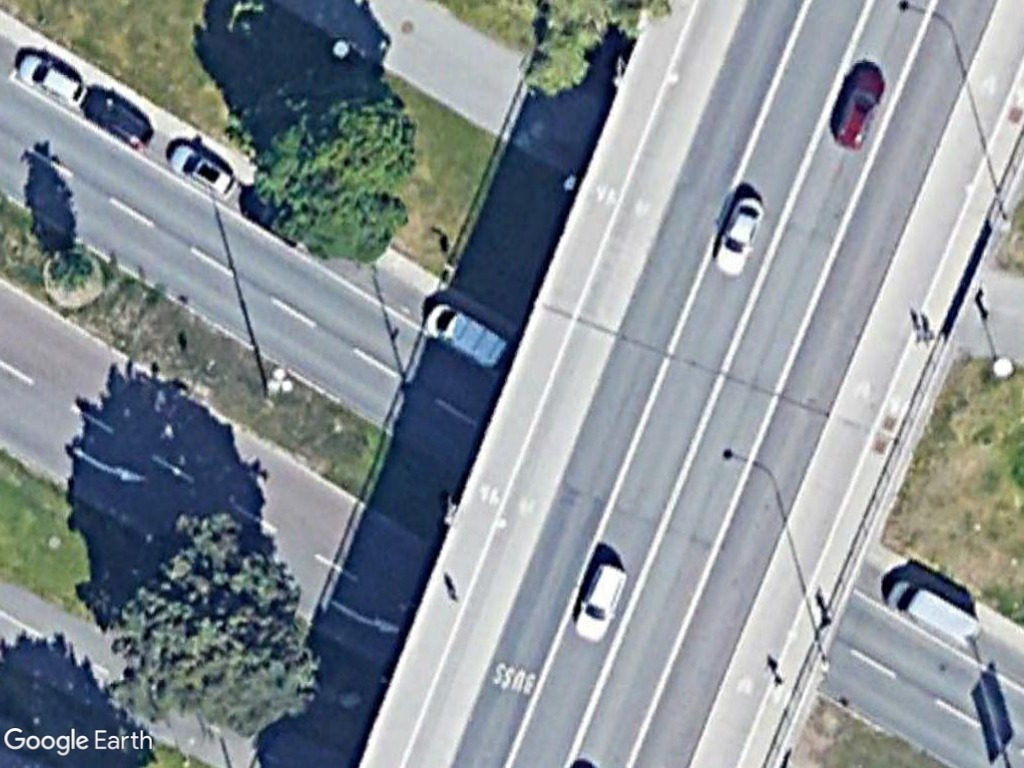car: (73, 81, 159, 156), (824, 65, 893, 151), (570, 557, 631, 649), (166, 136, 242, 206), (709, 189, 768, 276), (12, 48, 93, 111)
van: (886, 574, 986, 654), (421, 298, 513, 373)
